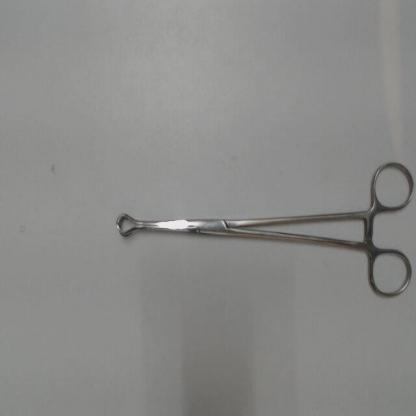8 Babcock Tissue Forceps: (106, 152, 416, 307)
